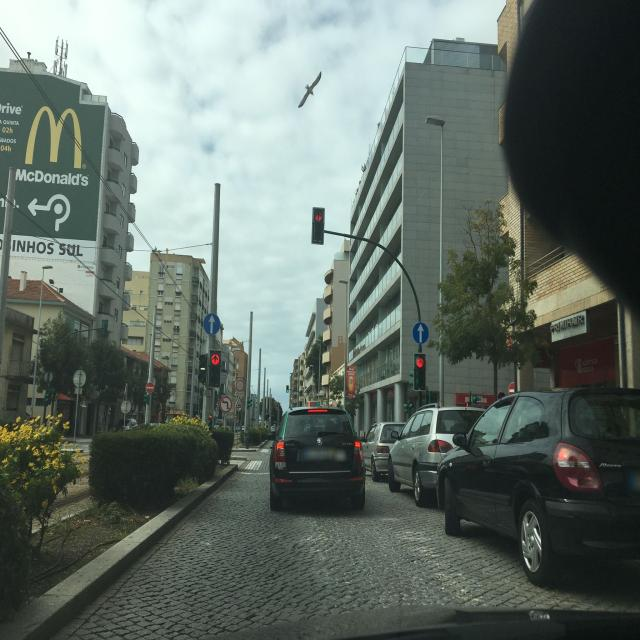car: (436, 384, 640, 586), (268, 405, 366, 511), (387, 404, 488, 506), (361, 421, 408, 481)
